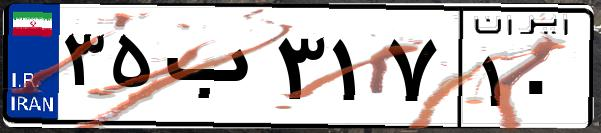0: (525, 38, 570, 115)
1: (330, 28, 385, 110), (475, 38, 525, 113)
3: (270, 28, 330, 110), (57, 26, 110, 100)
5: (110, 28, 158, 98)
7: (385, 28, 445, 110)
ب: (158, 20, 270, 120)
